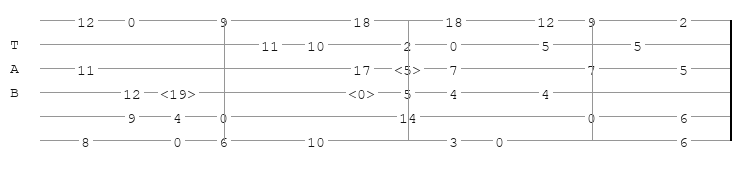0: (127, 14, 140, 27), (173, 134, 186, 147), (219, 110, 232, 123), (449, 38, 462, 51), (495, 134, 508, 147), (587, 110, 600, 123)
10: (307, 134, 329, 147), (307, 38, 329, 51)
11: (77, 62, 99, 75), (261, 38, 283, 51)
12: (77, 14, 99, 27), (123, 86, 145, 99), (537, 14, 559, 27)
14: (399, 110, 421, 123)
17: (353, 62, 375, 75)
18: (353, 14, 375, 27), (445, 14, 467, 27)
2: (403, 38, 416, 51), (679, 14, 692, 27)
3: (449, 134, 462, 147)
4: (173, 110, 186, 123), (449, 86, 462, 99), (541, 86, 554, 99)
5: (403, 86, 416, 99), (541, 38, 554, 51), (633, 38, 646, 51), (679, 62, 692, 75)
6: (219, 134, 232, 147), (679, 134, 692, 147), (679, 110, 692, 123)
7: (449, 62, 462, 75), (587, 62, 600, 75)
8: (81, 134, 94, 147)
9: (127, 110, 140, 123), (219, 14, 232, 27), (587, 14, 600, 27)
harmonic: (160, 86, 200, 99), (348, 86, 379, 99), (394, 62, 425, 75)
